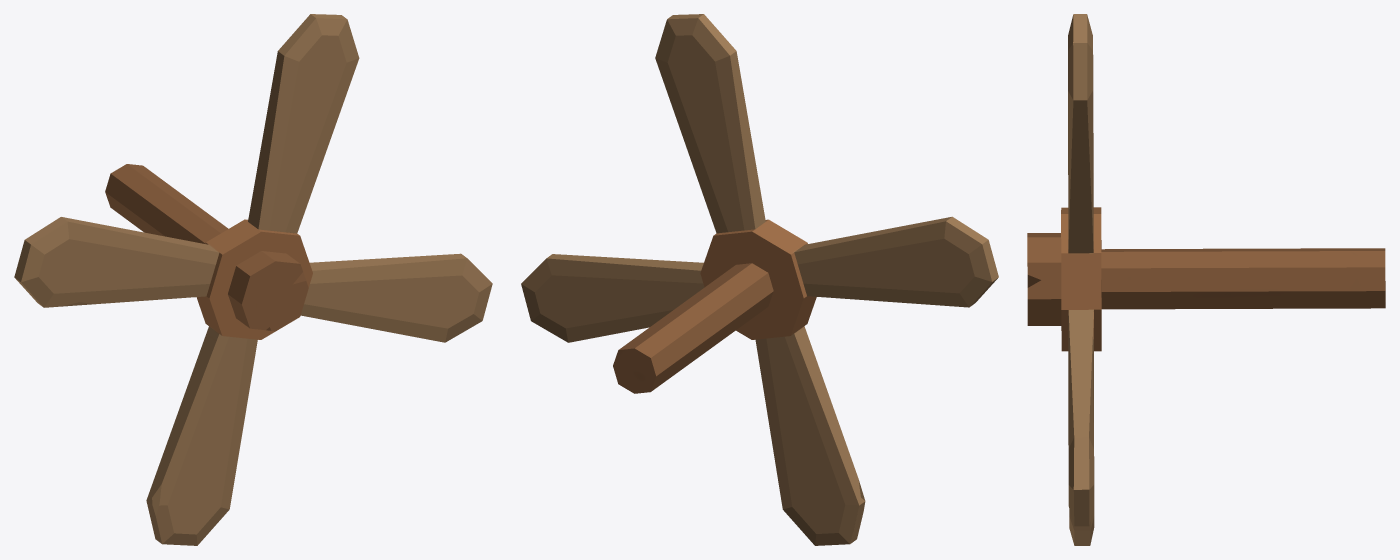
Rendered from fan.fbx.
The picture shows the model from 3 angles, left to right: view 1: azimuth 30°, elevation 25°; view 2: azimuth 150°, elevation 25°; view 3: azimuth 270°, elevation 25°; orthographic projection. The views are drawn at different scales.
Parts seen in each view (by area): view 1: Fan; view 2: Fan; view 3: Fan.
Part boxes in pixels (box(x1,y1,x2,y2)): Fan: box(14, 14, 492, 545); Fan: box(521, 14, 998, 545); Fan: box(1027, 14, 1385, 545).
Bounding box in the file's own units: 910 × 920 × 496.
